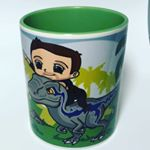cups: (16, 3, 134, 150)
